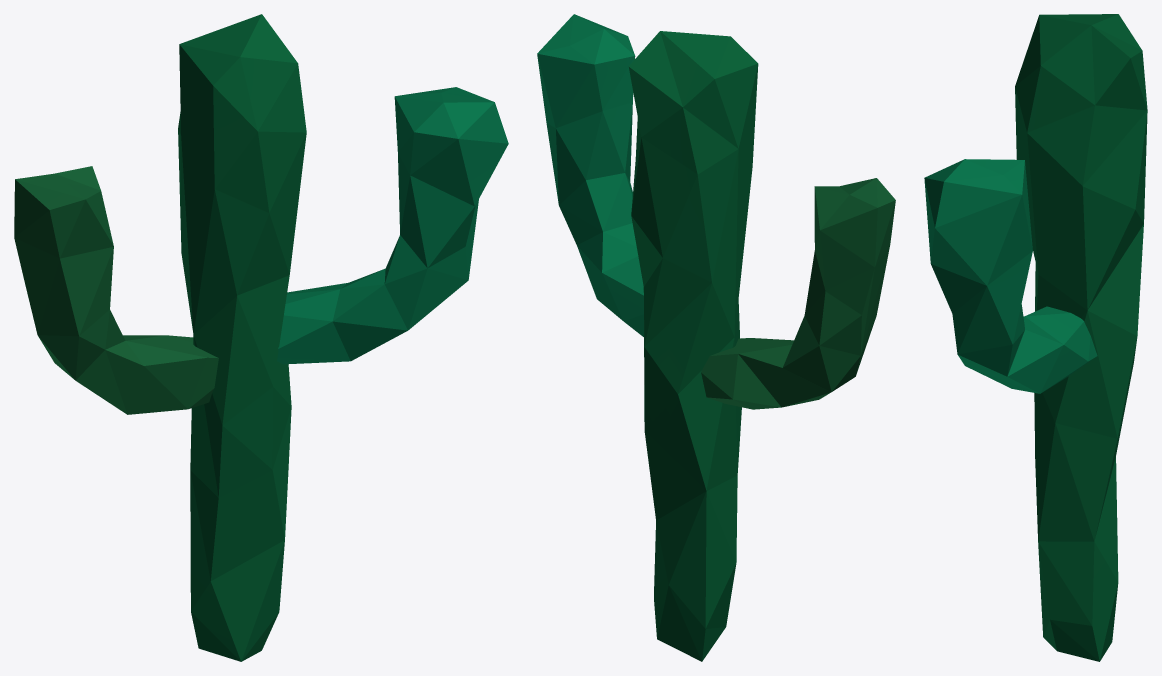
The model's file is Cactus_1.fbx.
The picture shows the model from 3 angles, left to right: view 1: azimuth 30°, elevation 25°; view 2: azimuth 150°, elevation 25°; view 3: azimuth 270°, elevation 25°; orthographic projection. The views are drawn at different scales.
Visible parts, largest first — view 1: Cactus_1; view 2: Cactus_1; view 3: Cactus_1.
Boxes of the visible parts, bbox=[...] form: Cactus_1: bbox=[14, 14, 508, 661]; Cactus_1: bbox=[537, 14, 895, 661]; Cactus_1: bbox=[924, 14, 1147, 661].
Bounding box in the file's own units: 1.72 × 2.54 × 0.7986.
